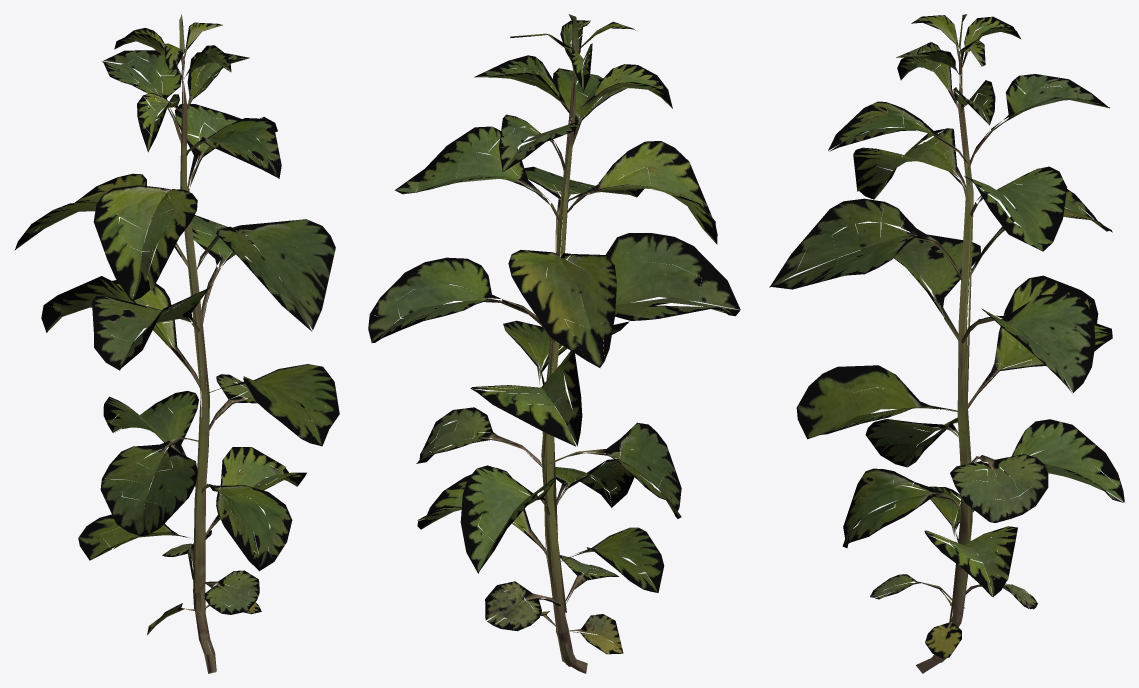
File: nettle_plant_v6.glb
3 views of the same model, side by side, from view 1: azimuth 30°, elevation 25°; view 2: azimuth 150°, elevation 25°; view 3: azimuth 270°, elevation 25° (orthographic). The views are drawn at different scales.
Visible parts, largest first — view 1: lod0; view 2: lod0; view 3: lod0.
Boxes of the visible parts, x1,y1,x2,y2 form: lod0: (14,14,339,673); lod0: (368,14,740,673); lod0: (769,14,1124,673).
Size of what is drawn, in the model's own units: 0.0825 by 0.1924 by 0.0949.
Materials: 1 (1 with a texture image).
